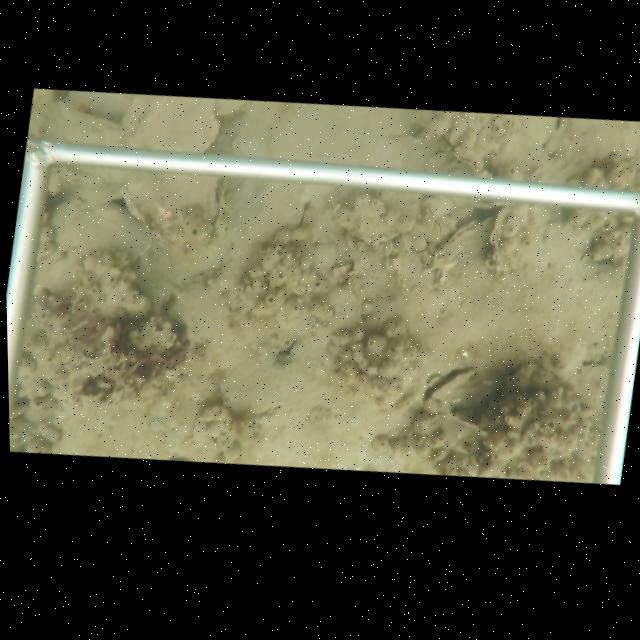Oyster-Closed: (118, 171, 230, 263), (432, 127, 493, 176), (441, 214, 495, 248), (489, 208, 507, 281), (430, 218, 446, 243), (397, 235, 414, 257), (384, 239, 394, 259), (427, 207, 436, 222)
Oyster-Indeterminate: (127, 97, 223, 154), (34, 101, 128, 149), (377, 190, 428, 234)
Oyster-Open: (422, 366, 476, 411), (292, 197, 316, 230)
